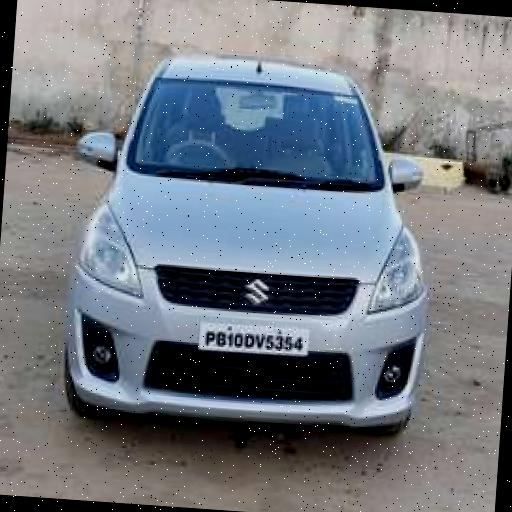license_plate`: (197, 318, 308, 353)
